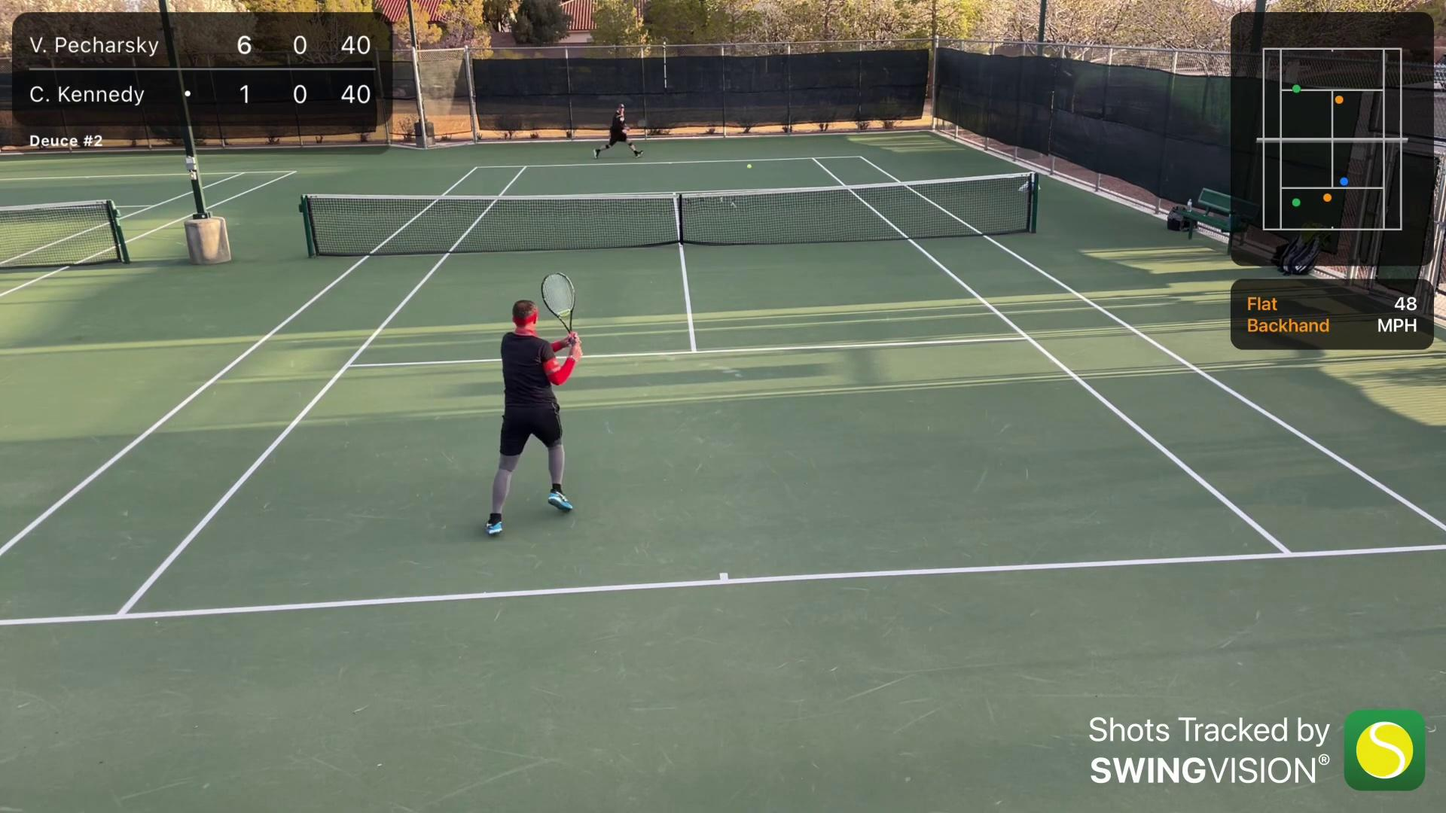ball: (747, 163, 754, 169)
